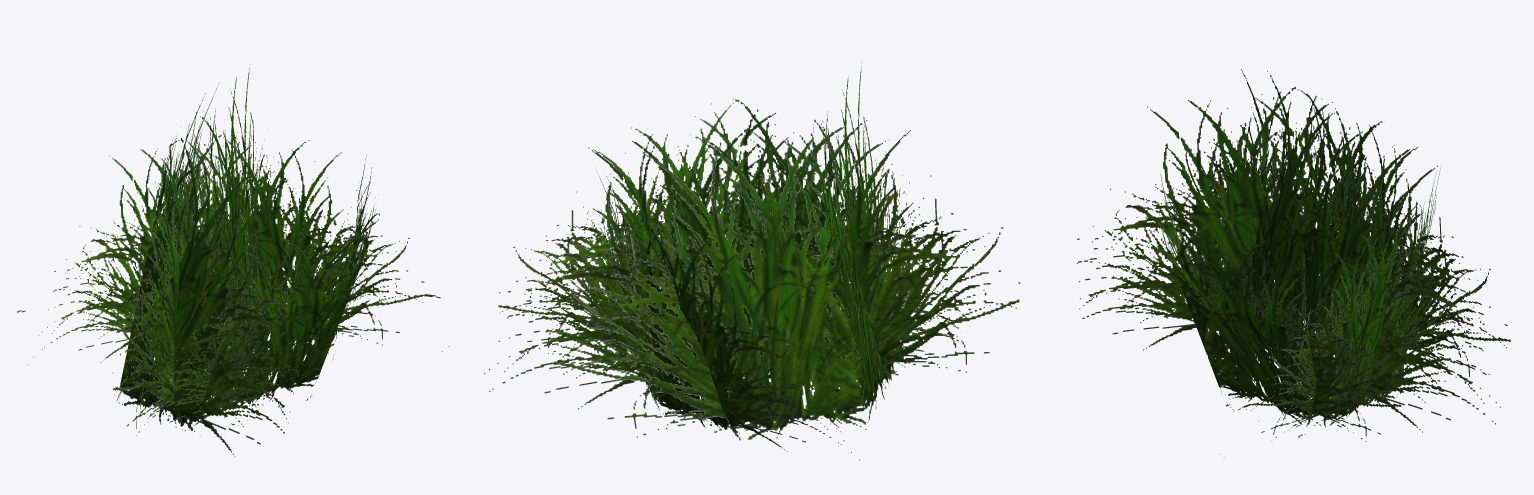
The model's file is Gras002.fbx.
The picture shows the model from 3 angles, left to right: view 1: azimuth 30°, elevation 25°; view 2: azimuth 150°, elevation 25°; view 3: azimuth 270°, elevation 25°; orthographic projection. The views are drawn at different scales.
Parts seen in each view (by area): view 1: Grass002; view 2: Grass002; view 3: Grass002.
Part boxes in pixels (x1=…): Grass002: x1=17, y1=64, x2=449, y2=457; Grass002: x1=484, y1=62, x2=1020, y2=460; Grass002: x1=1076, y1=69, x2=1510, y2=457.
Bounding box in the file's own units: 12.06 × 8.2 × 11.86.
1 material, 1 textured.
